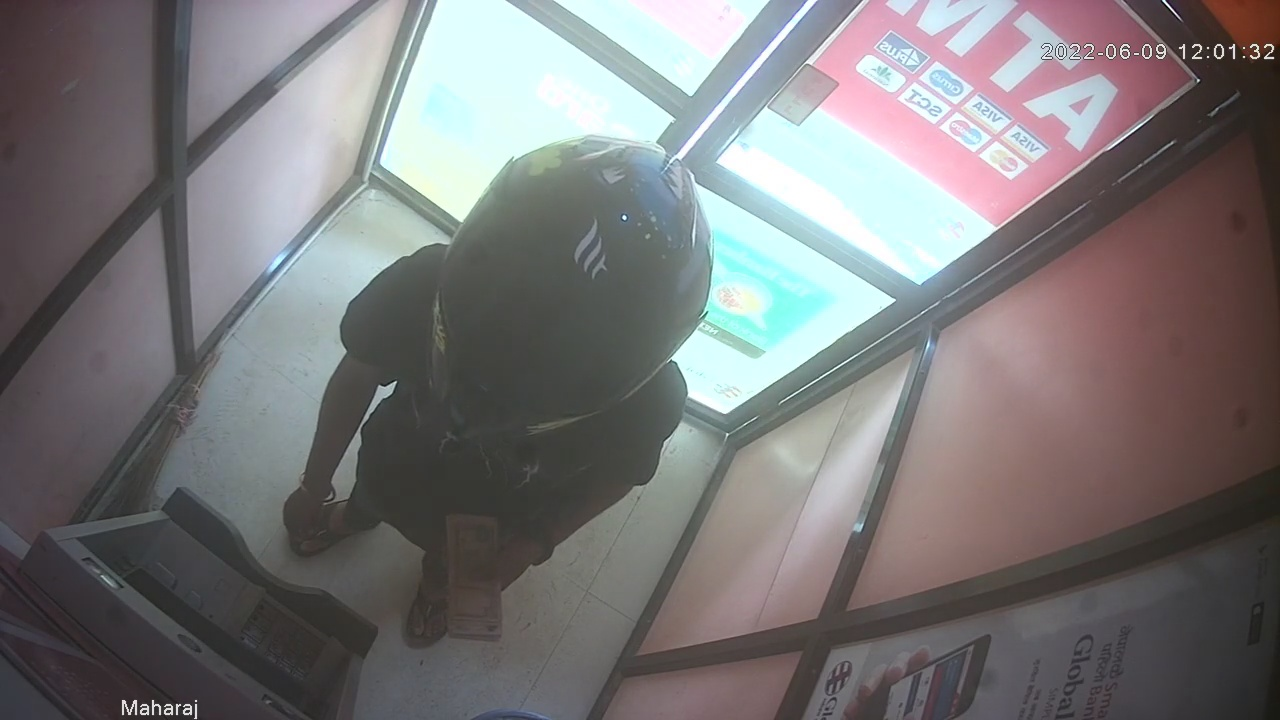helmet: (420, 134, 711, 445)
person: (281, 133, 715, 651)
